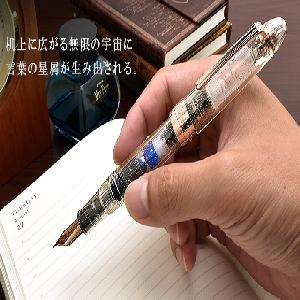pen: (48, 13, 293, 250)
